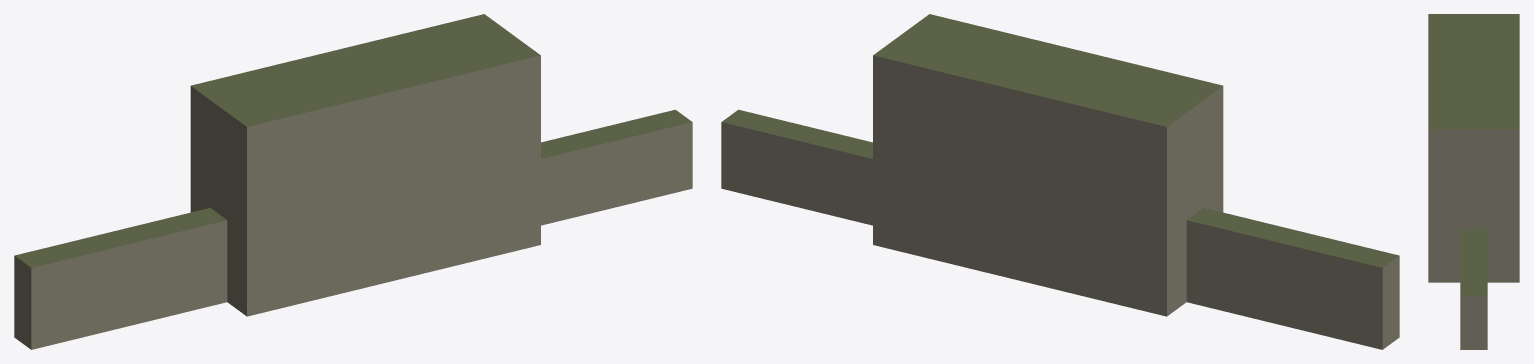
Rendered from ruin-arch.far-facades-v1.lod2.glb.
The picture shows the model from 3 angles, left to right: view 1: azimuth 30°, elevation 25°; view 2: azimuth 150°, elevation 25°; view 3: azimuth 270°, elevation 25°; orthographic projection. The views are drawn at different scales.
Visible parts, largest first — view 1: ruin-arch; view 2: ruin-arch; view 3: ruin-arch.
Part boxes in pixels (bbox=[...]): ruin-arch: bbox=[14, 14, 692, 349]; ruin-arch: bbox=[721, 14, 1399, 349]; ruin-arch: bbox=[1428, 14, 1519, 349].
Bounding box in the file's own units: 27 × 7.4 × 4.
